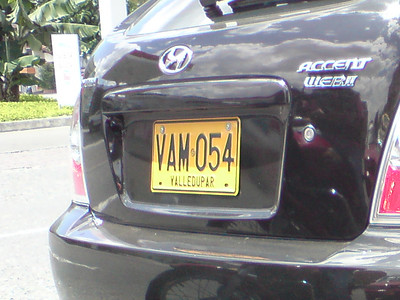placa_carro: (149, 115, 242, 195)
